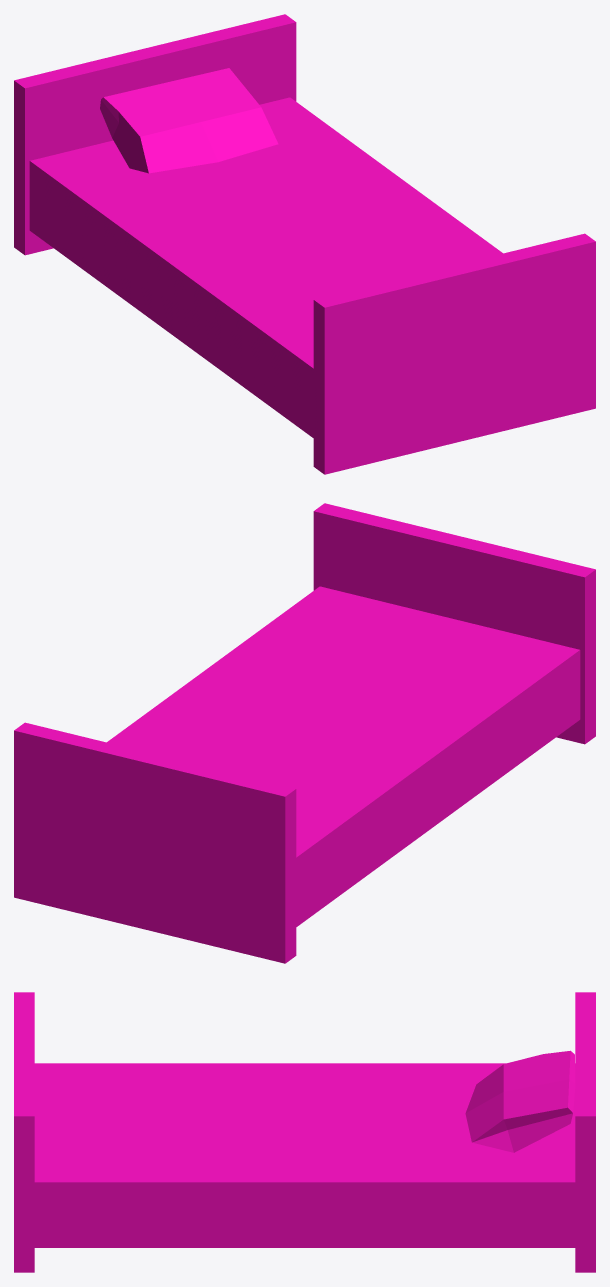
File: study_bed_1_meshCollider.fbx
3 renders of one model, top to bottom at view 1: azimuth 30°, elevation 25°; view 2: azimuth 150°, elevation 25°; view 3: azimuth 270°, elevation 25°, orthographic. The views are drawn at different scales.
Parts seen in each view (by area): view 1: study_bed_1_meshCollider, study_bed_1_pillow_meshCollider; view 2: study_bed_1_meshCollider; view 3: study_bed_1_meshCollider, study_bed_1_pillow_meshCollider.
Boxes of the visible parts, x1,y1,x2,y2 form: study_bed_1_meshCollider: (14, 14, 595, 474); study_bed_1_pillow_meshCollider: (100, 68, 278, 173); study_bed_1_meshCollider: (14, 503, 595, 963); study_bed_1_meshCollider: (14, 992, 595, 1272); study_bed_1_pillow_meshCollider: (465, 1050, 575, 1152).
Size of the model in its own units: 73.03 by 42.95 by 145.
